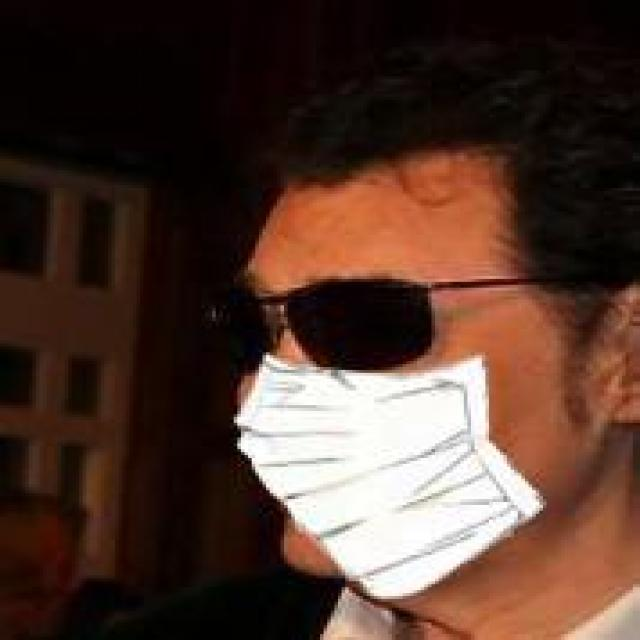mask: (162, 97, 640, 611)
